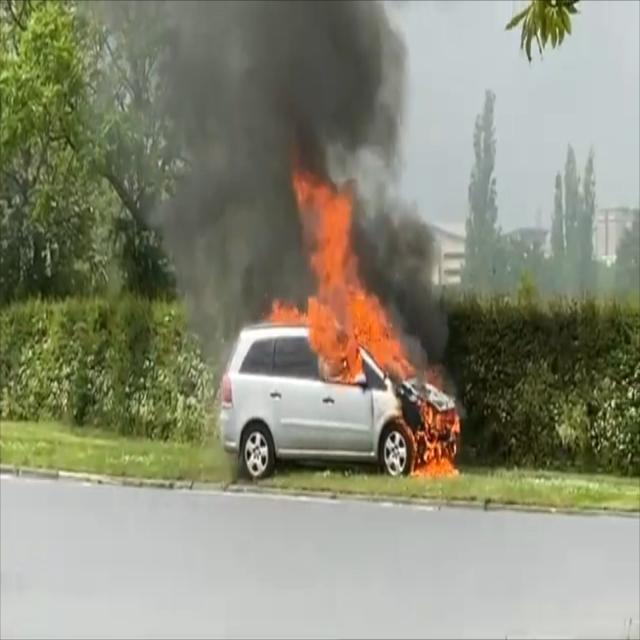fire: (267, 164, 463, 479)
